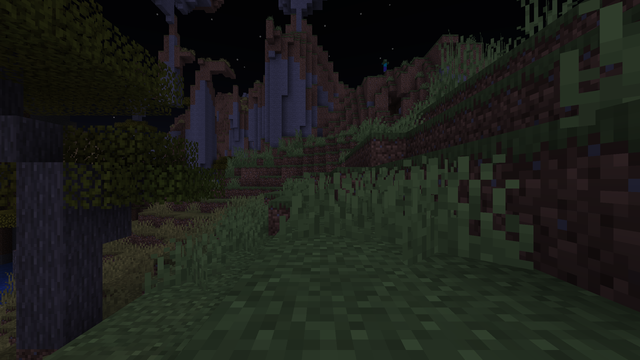zombies: (382, 59, 386, 72)
